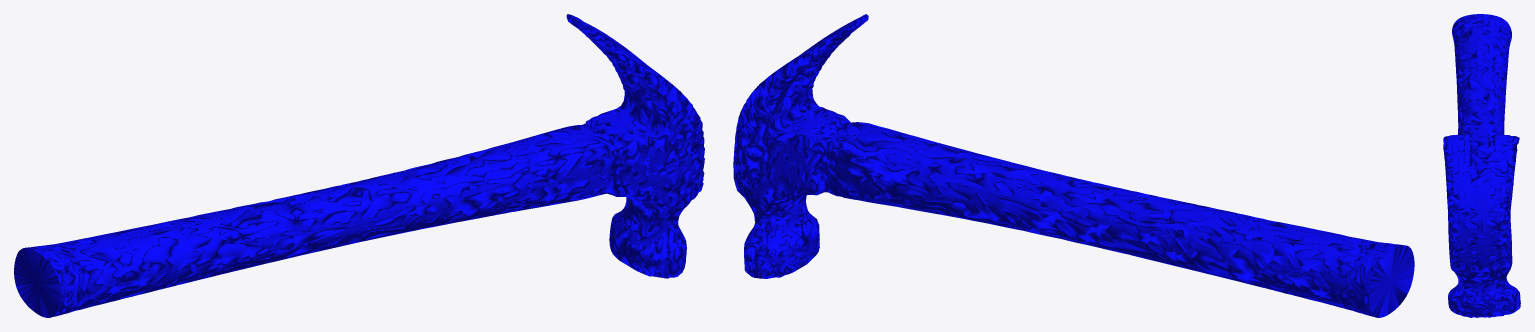
File: hammer_real_centered.obj
3 renders of one model, left to right at view 1: azimuth 30°, elevation 25°; view 2: azimuth 150°, elevation 25°; view 3: azimuth 270°, elevation 25°, orthographic. The views are drawn at different scales.
Size of the model in its own units: 0.25 by 0.09 by 0.04.
1 material, 1 textured.
